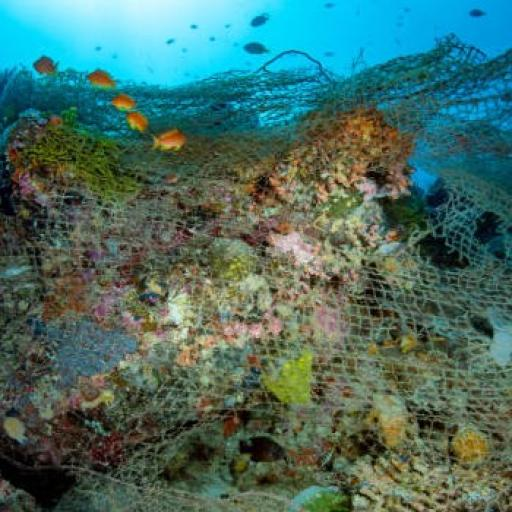net: (0, 40, 509, 510)
